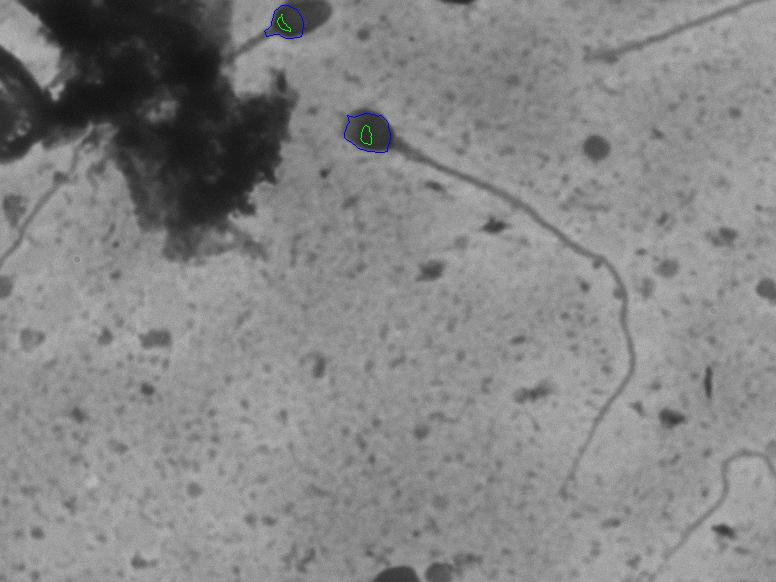Abnormal: (322, 95, 645, 508)
